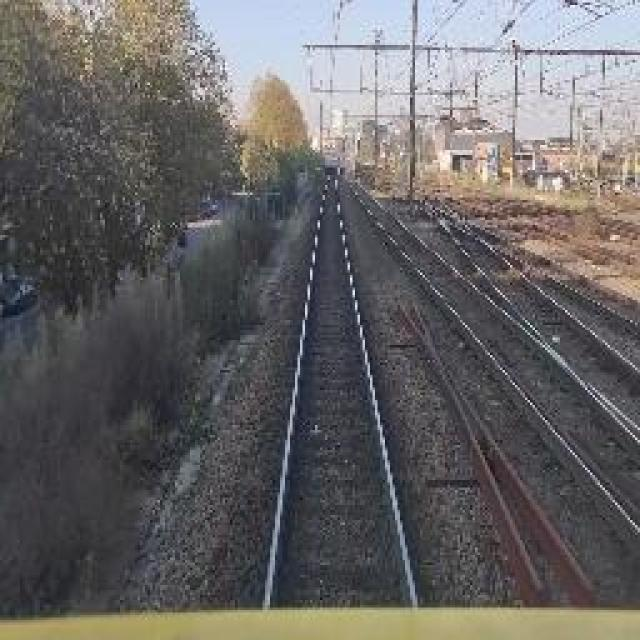rail: (236, 171, 462, 609)
